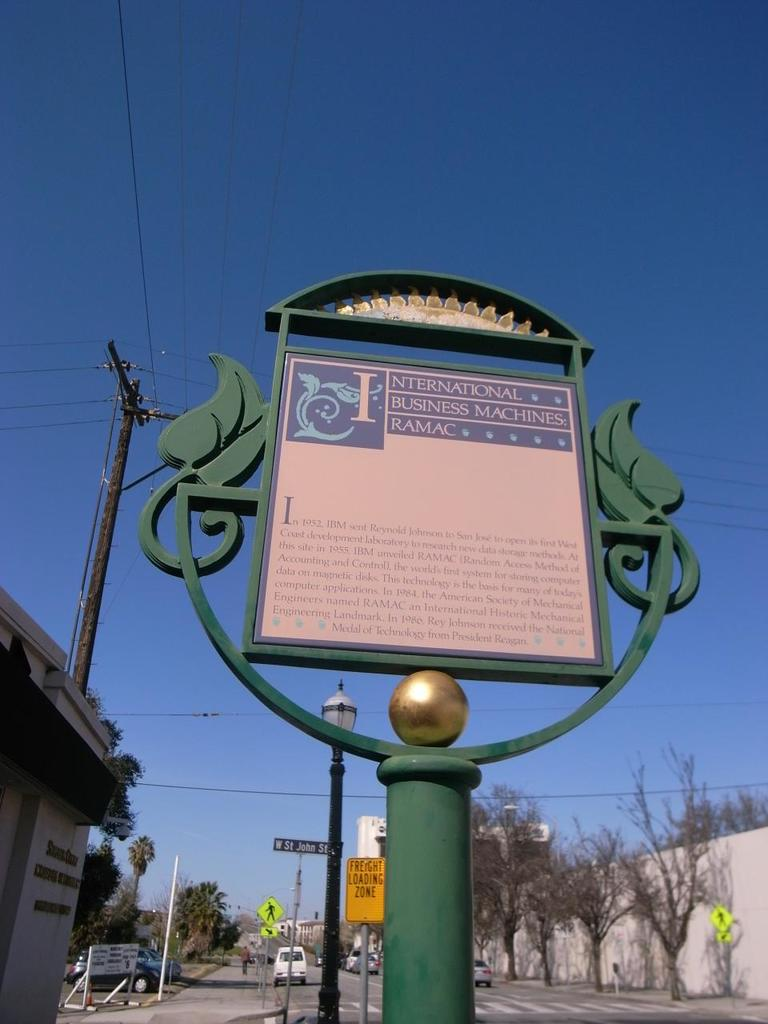Tree: (614, 751, 692, 1018), (479, 770, 554, 992), (556, 819, 637, 1004), (93, 819, 153, 949), (65, 824, 105, 947), (172, 874, 234, 951), (706, 784, 767, 835)
